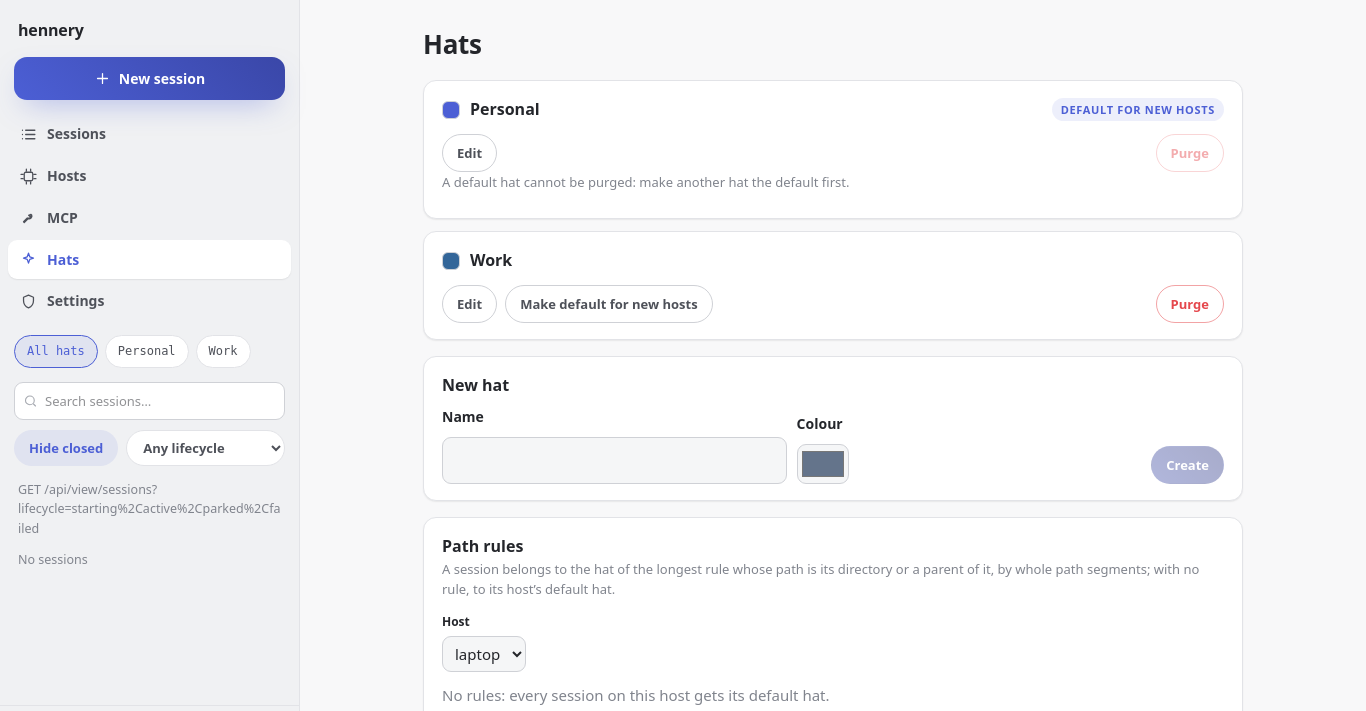
Scenario: the hats › keeps both of two changes that land together
Click the button "Make default for new hosts" at x=609, y=304, box x1=505 y1=285 x2=713 y2=323
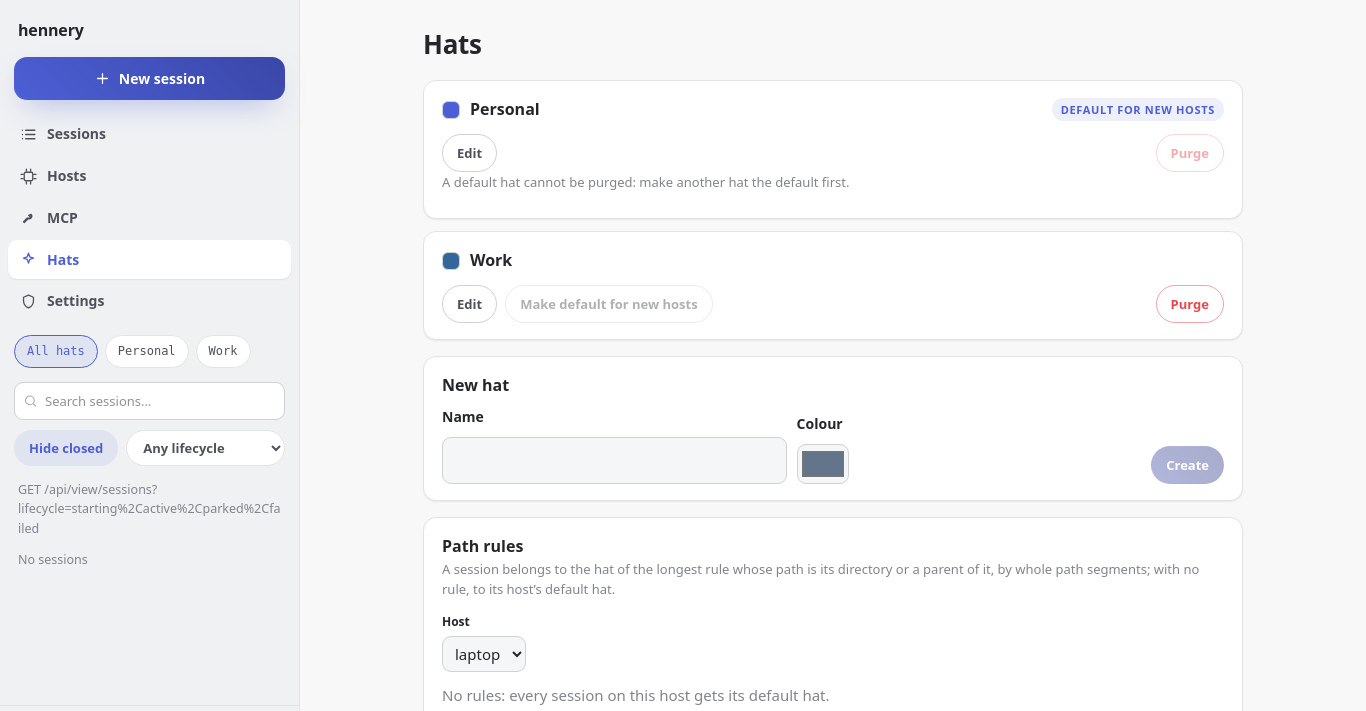
Type "Clients" into the field labelled "Name" at x=614, y=460, box x1=442 y1=437 x2=787 y2=484
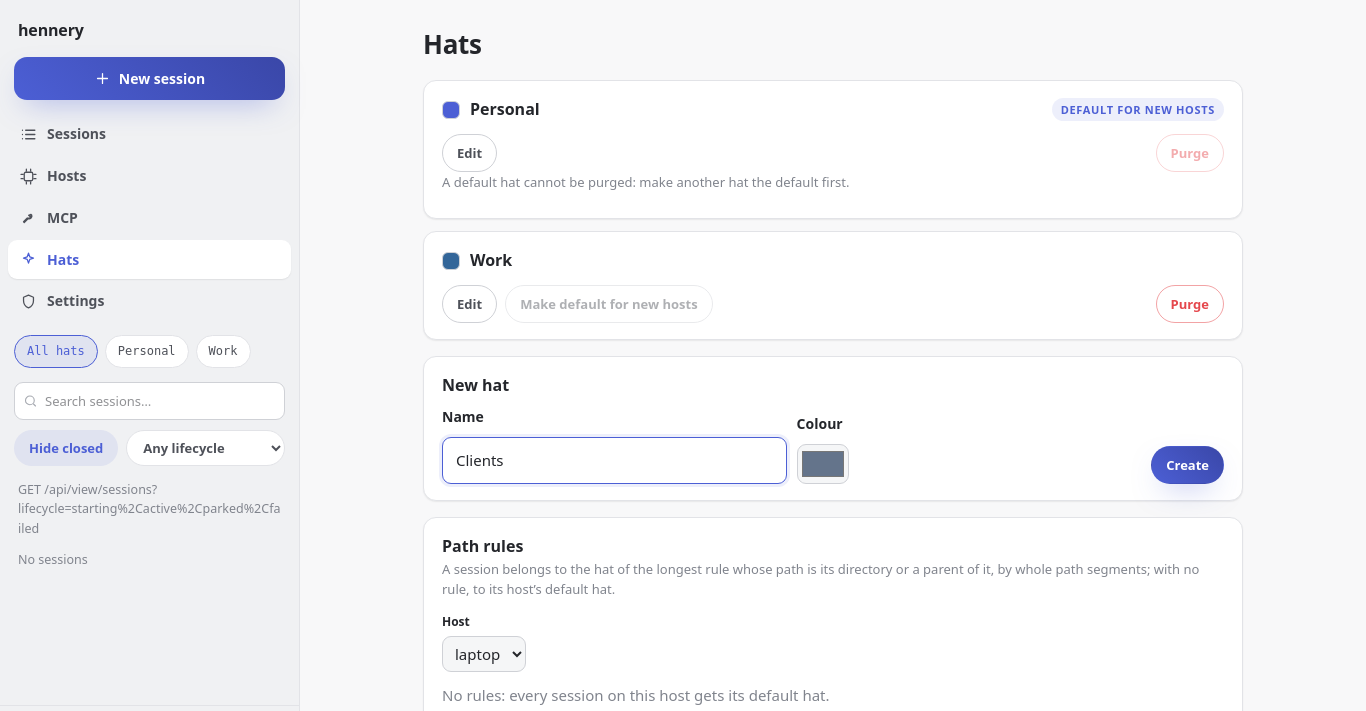
Click the button "Create" at x=1188, y=465, box x1=1151 y1=446 x2=1224 y2=484
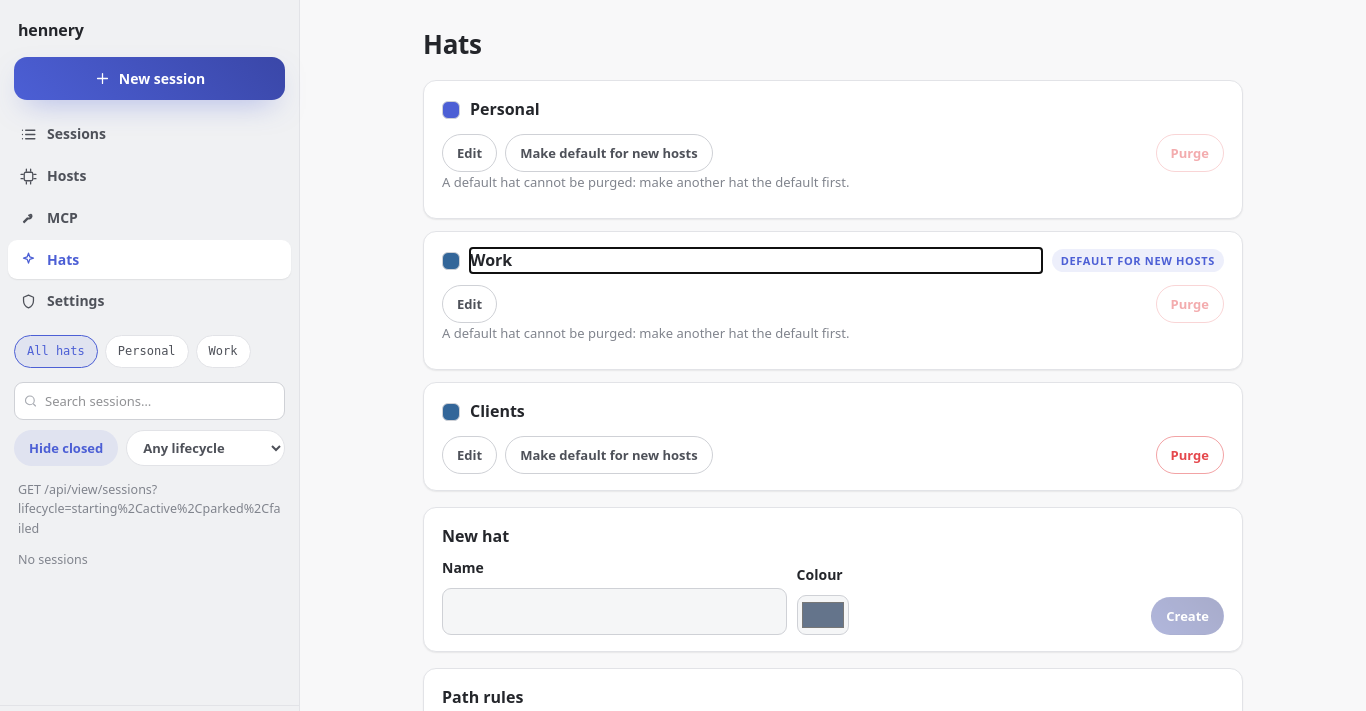
Expected: the text "Default for new hosts" is shown, x1=1052 y1=249 x2=1224 y2=272
Expected: the list item "Clients" is shown, x1=423 y1=382 x2=1243 y2=491
